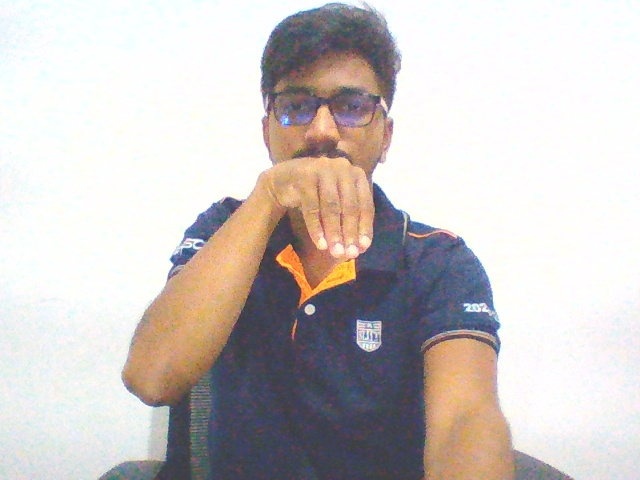Squirrel: (251, 151, 381, 269)
